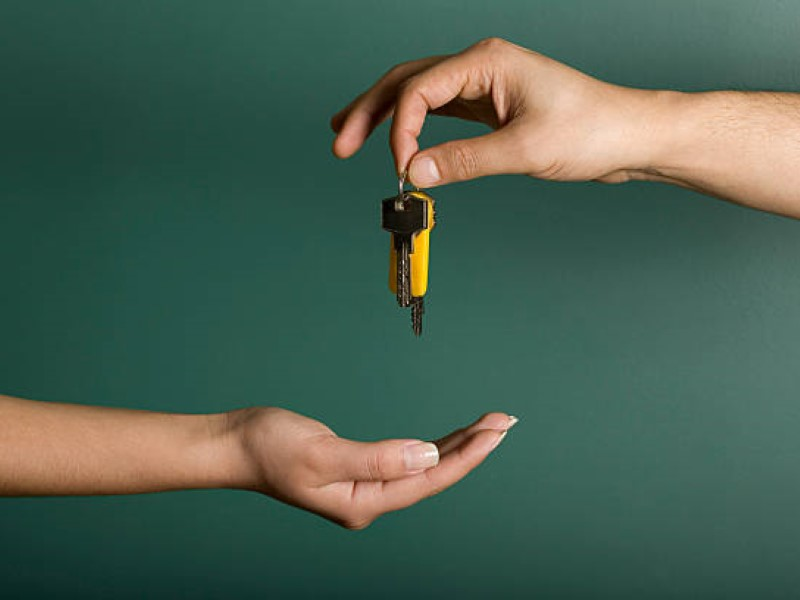key: (377, 183, 440, 342)
